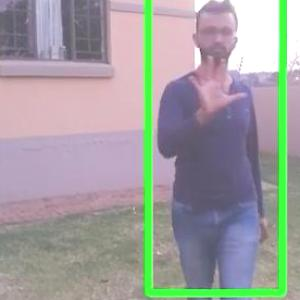follow_hand: (182, 50, 251, 113)
